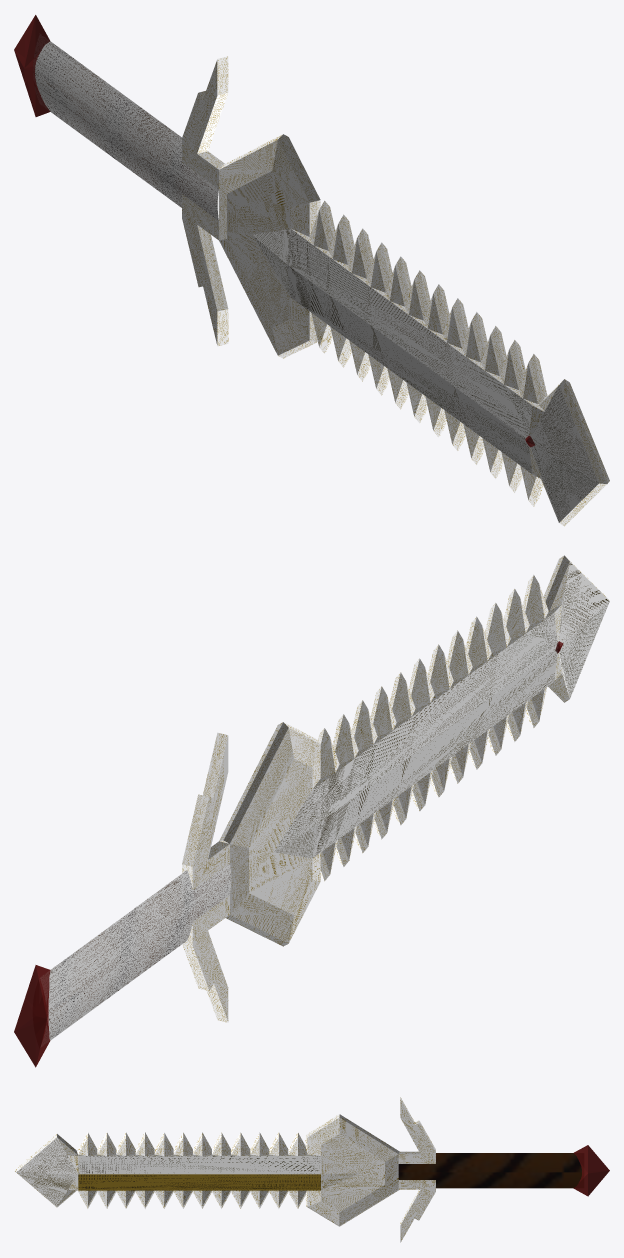
File: model_scale.obj
The picture shows the model from 3 angles, top to bottom: view 1: azimuth 30°, elevation 25°; view 2: azimuth 150°, elevation 25°; view 3: azimuth 270°, elevation 25°; orthographic projection. The views are drawn at different scales.
Parts seen in each view (by area): view 1: mesh1_mesh1-geometry; view 2: mesh1_mesh1-geometry; view 3: mesh1_mesh1-geometry.
Boxes of the visible parts, x1,y1,x2,y2 form: mesh1_mesh1-geometry: [14, 15, 609, 526]; mesh1_mesh1-geometry: [14, 555, 609, 1067]; mesh1_mesh1-geometry: [14, 1097, 609, 1242].
Bounding box in the file's own units: 0.00685 × 0.0581 × 0.2172.
Materials: 7 (3 with a texture image).
